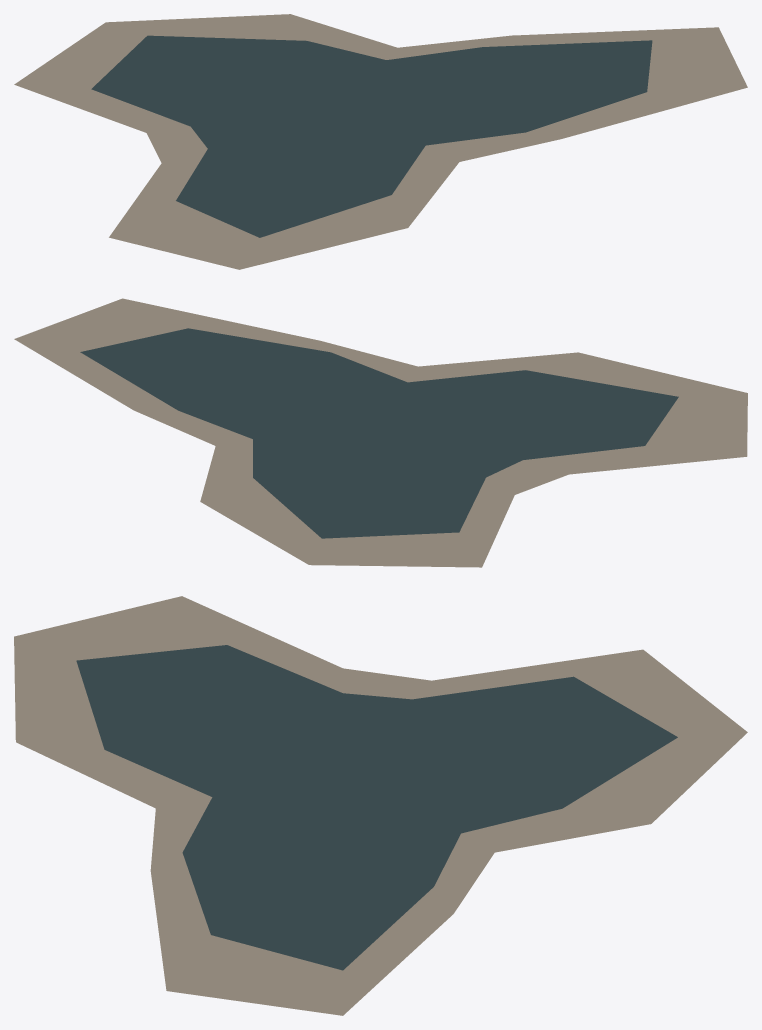
Rendered from dngp_puddle.glb.
The picture shows the model from 3 angles, top to bottom: view 1: azimuth 30°, elevation 25°; view 2: azimuth 150°, elevation 25°; view 3: azimuth 270°, elevation 25°; orthographic projection. The views are drawn at different scales.
Visible parts, largest first — view 1: mud; view 2: mud; view 3: mud.
Part boxes in pixels (left/top/right/bottom): mud: left=14, top=14, right=747, bottom=269; mud: left=14, top=298, right=747, bottom=567; mud: left=14, top=596, right=747, bottom=1015.
Size of the model in its own units: 1.81 by 0.008 by 1.33.
